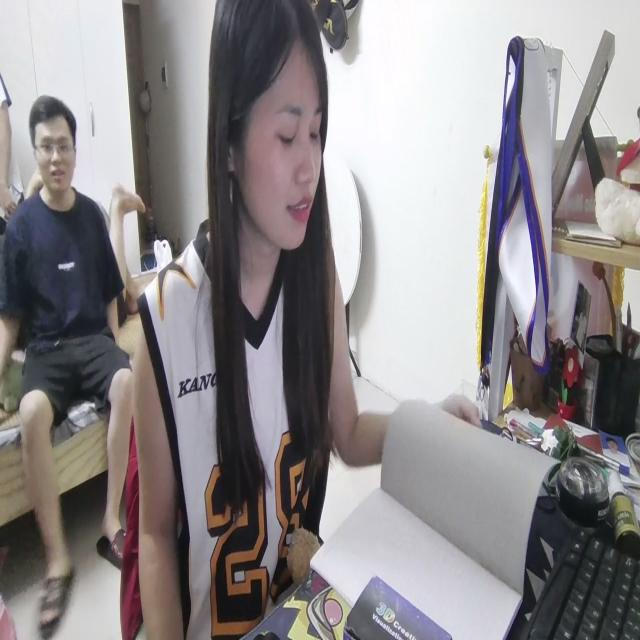book: (310, 386, 555, 640)
extra_person: (8, 88, 137, 617)
student: (128, 4, 482, 640)
